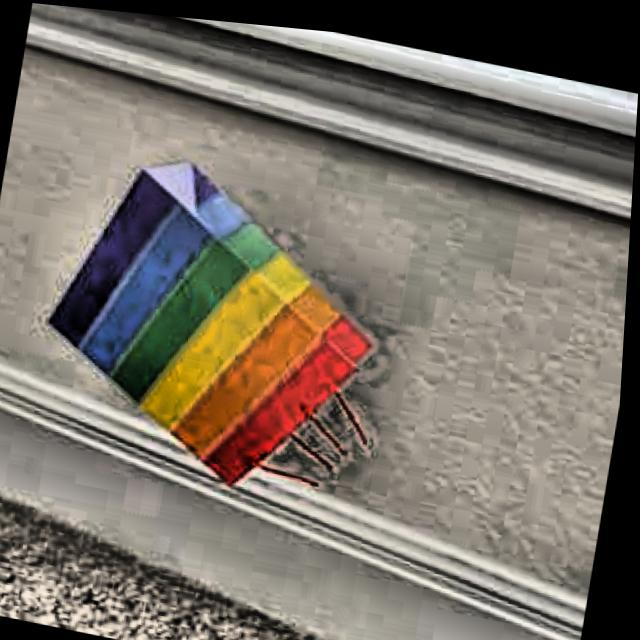Paper-bag: (15, 125, 427, 511)
